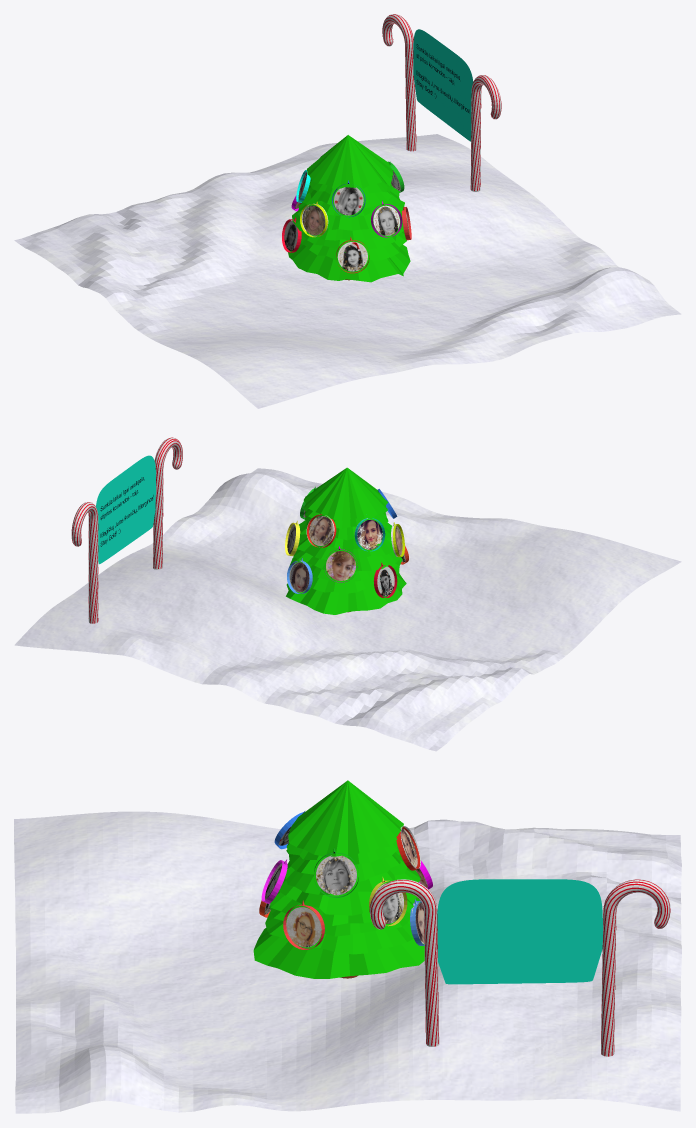
File: tree_v11.gltf
3 views of the same model, one above another, from view 1: azimuth 30°, elevation 25°; view 2: azimuth 150°, elevation 25°; view 3: azimuth 270°, elevation 25° (orthographic). The views are drawn at different scales.
Parts seen in each view (by area): view 1: Plane.002, Cube, Text, Cylinder.009, Cylinder.011, Cylinder.008, Cylinder.007; view 2: Plane.002, Cube, Text, Cylinder.005, Cylinder.003, Cylinder.004, Cylinder.002, Cylinder.006; view 3: Plane.002, Text, Cube, Cylinder.001, Cylinder.010, Cylinder, Cylinder.003, Cylinder.009, Cylinder.002.
Boxes of the visible parts, x1,y1,x2,y2 form: Plane.002: (14, 134, 681, 408); Cube: (288, 135, 410, 282); Text: (382, 14, 501, 191); Cylinder.009: (371, 200, 402, 237); Cylinder.011: (336, 237, 369, 273); Cylinder.008: (332, 180, 365, 217); Cylinder.007: (300, 201, 328, 237); Plane.002: (14, 468, 681, 751); Cube: (286, 467, 406, 614); Text: (71, 437, 182, 623); Cylinder.005: (354, 518, 385, 551); Cylinder.003: (306, 514, 336, 547); Cylinder.004: (324, 546, 357, 582); Cylinder.002: (287, 558, 312, 593); Cylinder.006: (373, 562, 397, 597); Plane.002: (14, 811, 681, 1113); Text: (369, 879, 670, 1056); Cube: (253, 780, 424, 978); Cylinder.001: (313, 848, 358, 897); Cylinder.010: (283, 900, 324, 949); Cylinder: (369, 877, 407, 926); Cylinder.003: (396, 826, 420, 870); Cylinder.009: (261, 859, 287, 903); Cylinder.002: (410, 899, 424, 945).
Size of the model in its own units: 100 by 33.47 by 100.
Materials: 21 (13 with a texture image).
